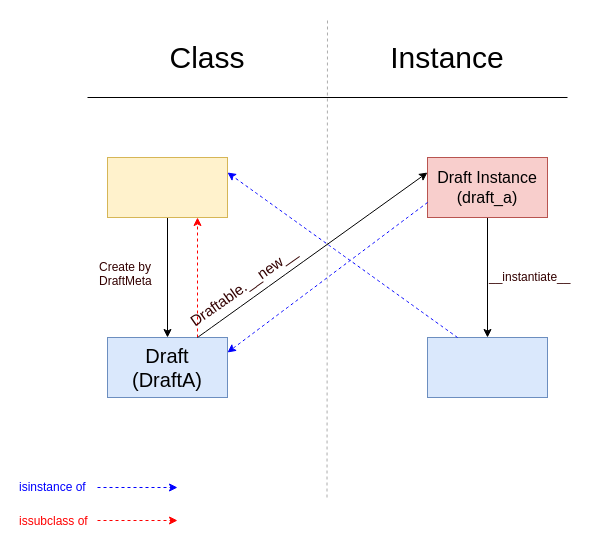
The diagram is 604 pixels wide and 549 high, and some of its shapes have lost their labels. The box of each missing label's shape, as (x1, y1, x2, y2) in pixels:
Draftable (A): (106, 156, 228, 218)
Instance (a): (426, 336, 548, 398)
